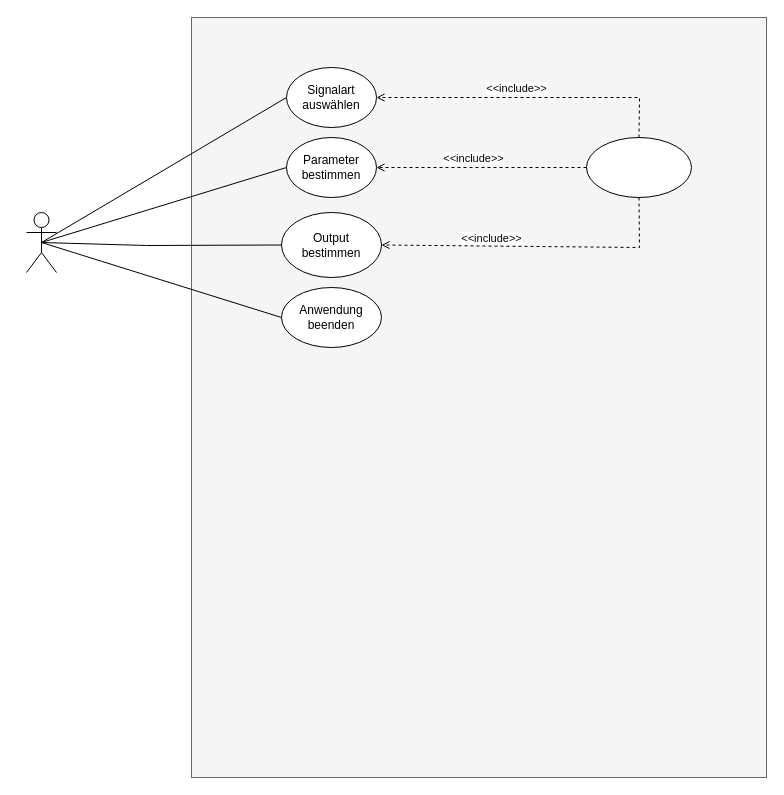
Some shapes in this 784 by 795 pixel diagram are drawn without their labels. The shapes that lost their labels are listed below. From the top down, each one's centre as x and y in pixels, then its label:
the point at 639,167: Generierung starten
the point at 41,242: Benutzer
